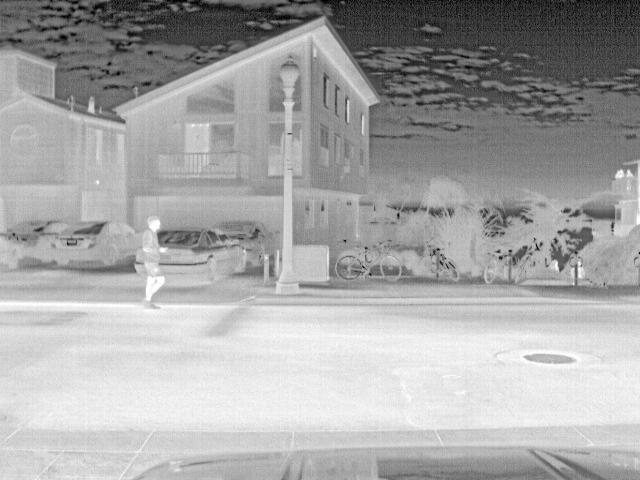car: (155, 229, 248, 284), (52, 221, 139, 273), (212, 220, 278, 268), (1, 220, 67, 266)
person: (139, 216, 168, 306), (549, 259, 561, 273), (623, 167, 636, 178)
